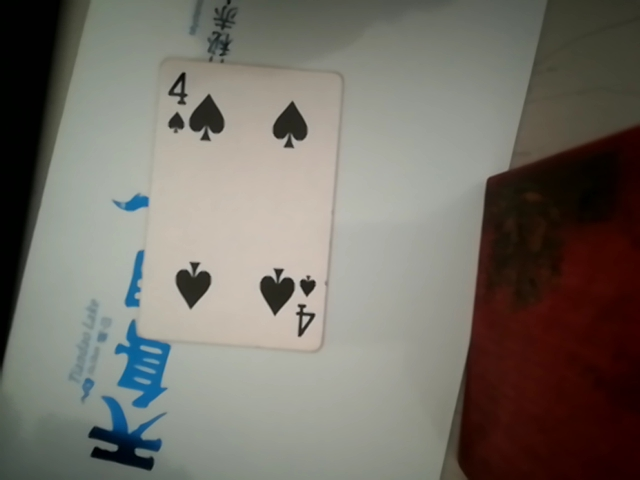ht 4: (142, 60, 336, 351)
